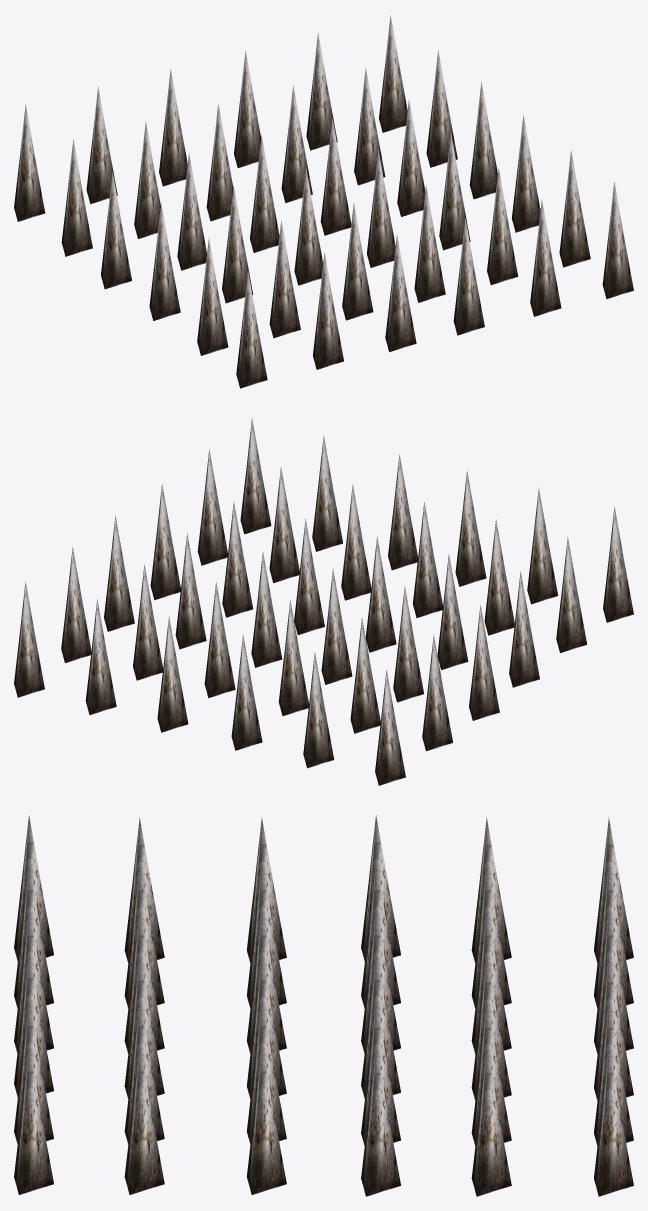
3 renders of one model, top to bottom at view 1: azimuth 30°, elevation 25°; view 2: azimuth 150°, elevation 25°; view 3: azimuth 270°, elevation 25°, orthographic. The views are drawn at different scales.
Visible parts, largest first — view 1: Obj13, Object08, Object15, Object10, Object13, Obj10, Object03, Object06, Object07, Object09, Object14, Object20 (+16 smaller); view 2: Obj13, Object11, Object19, Object09, Object16, Object18, Object23, Obj10, Obj12, Object10, Object25, Obj08 (+16 smaller); view 3: Obj13, Object09, Object03, Object02, Object12, Object20, Object07, Object24, Object21, Object11, Object17, Object19 (+16 smaller).
Boxes of the visible parts, x1,y1,x2,y2 form: Obj13: (234,15,497,235); Object08: (530,199,561,316); Object15: (197,238,228,355); Object10: (385,234,416,352); Object13: (342,202,373,320); Obj10: (149,203,180,320); Object03: (559,149,590,267); Object06: (414,185,445,302); Object07: (453,218,484,335); Object09: (602,181,633,299); Object14: (269,220,300,338); Object20: (101,171,131,289); Obj13: (14,515,282,732); Object11: (527,487,558,604); Object19: (393,585,423,702); Object09: (240,417,271,534); Object16: (365,536,396,652); Object18: (321,568,352,684); Object23: (422,634,452,751); Obj10: (509,571,539,687); Obj12: (375,670,405,785); Object10: (455,470,486,586); Object25: (303,652,334,768); Obj08: (222,501,252,617); Obj13: (361,952,633,1196); Object09: (14,1044,53,1194); Object03: (124,1044,164,1194); Object02: (247,1043,286,1194); Object12: (14,815,53,961); Object20: (361,815,400,961); Object07: (14,951,53,1097); Object24: (594,908,633,1054); Object21: (471,908,511,1054); Object11: (14,863,53,1008); Object17: (247,862,286,1008); Object19: (361,862,400,1008).
Size of the model in its own units: 333 by 88.74 by 350.
Materials: 1 (1 with a texture image).
